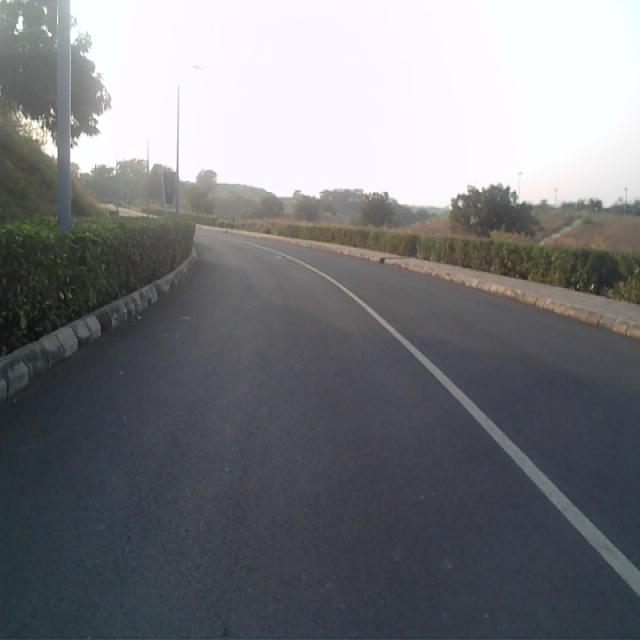lane: (0, 237, 640, 640)
